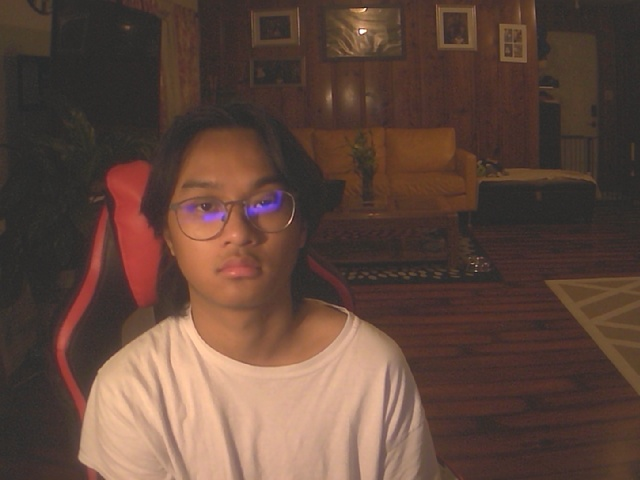neutral: (139, 100, 327, 311)
